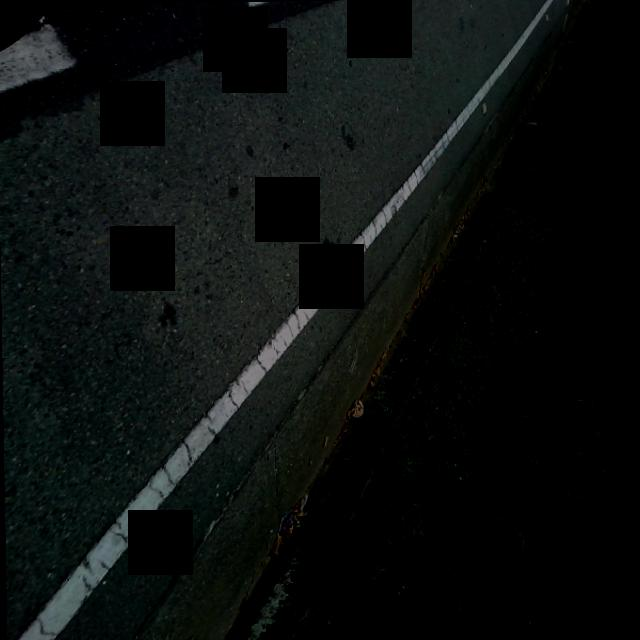DITCH: (0, 0, 605, 640), (0, 0, 561, 640), (0, 0, 558, 640)
